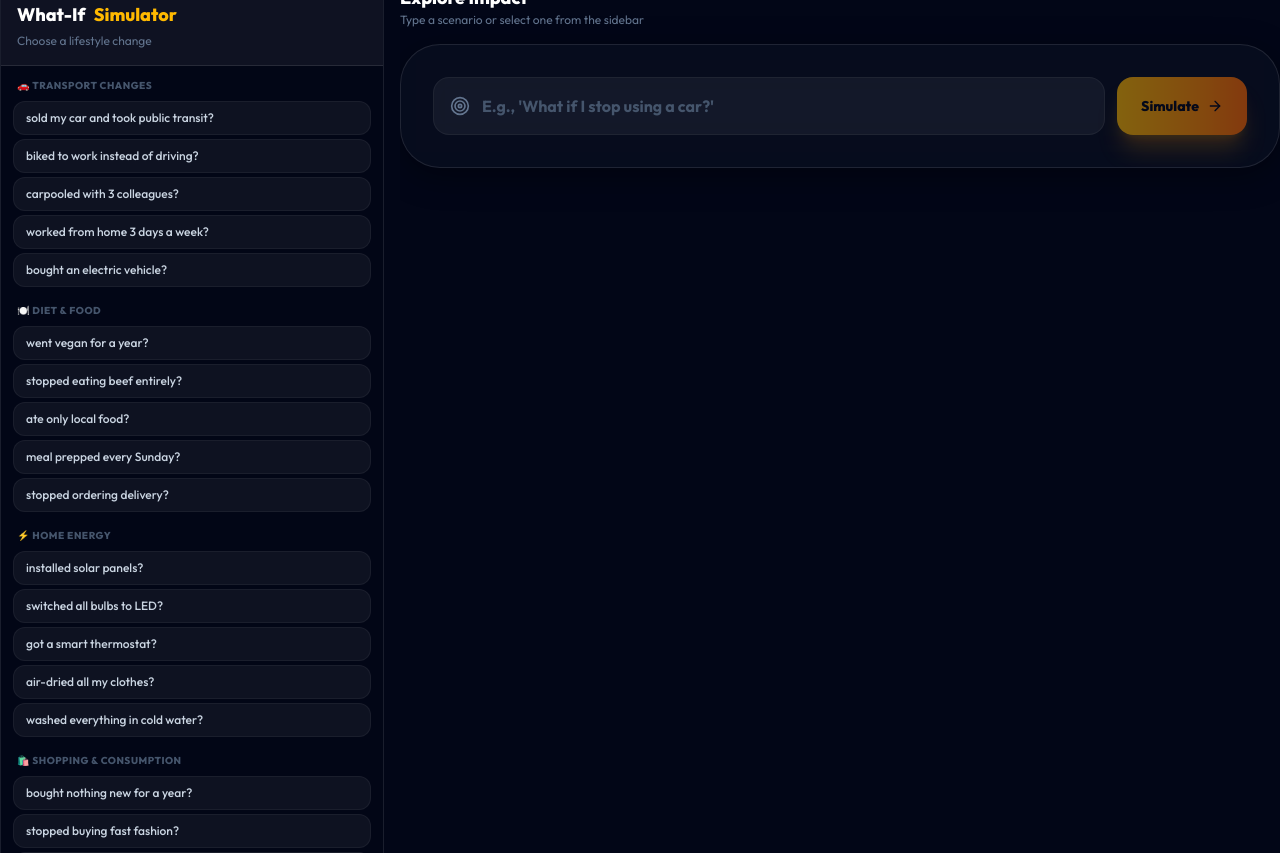
Test: WhatIfTab › handles form submission and displays simulated impact
Type "stop eating meat" into the field with placeholder "E.g., 'What if I stop using a car?'" at (779, 106), box [470,78,1088,134]
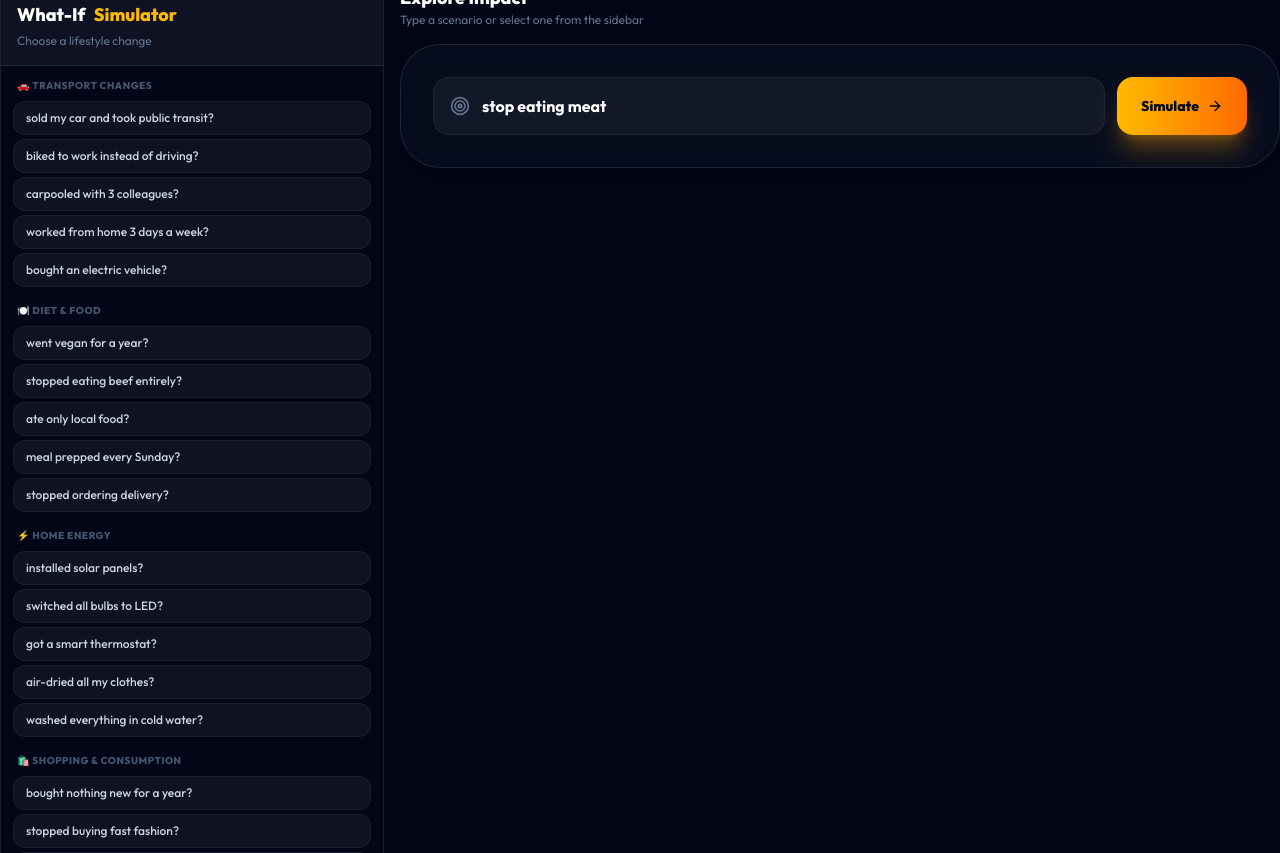
Click the button "Simulate" at (1182, 106), box [1117,77,1247,135]
(page scrolled)
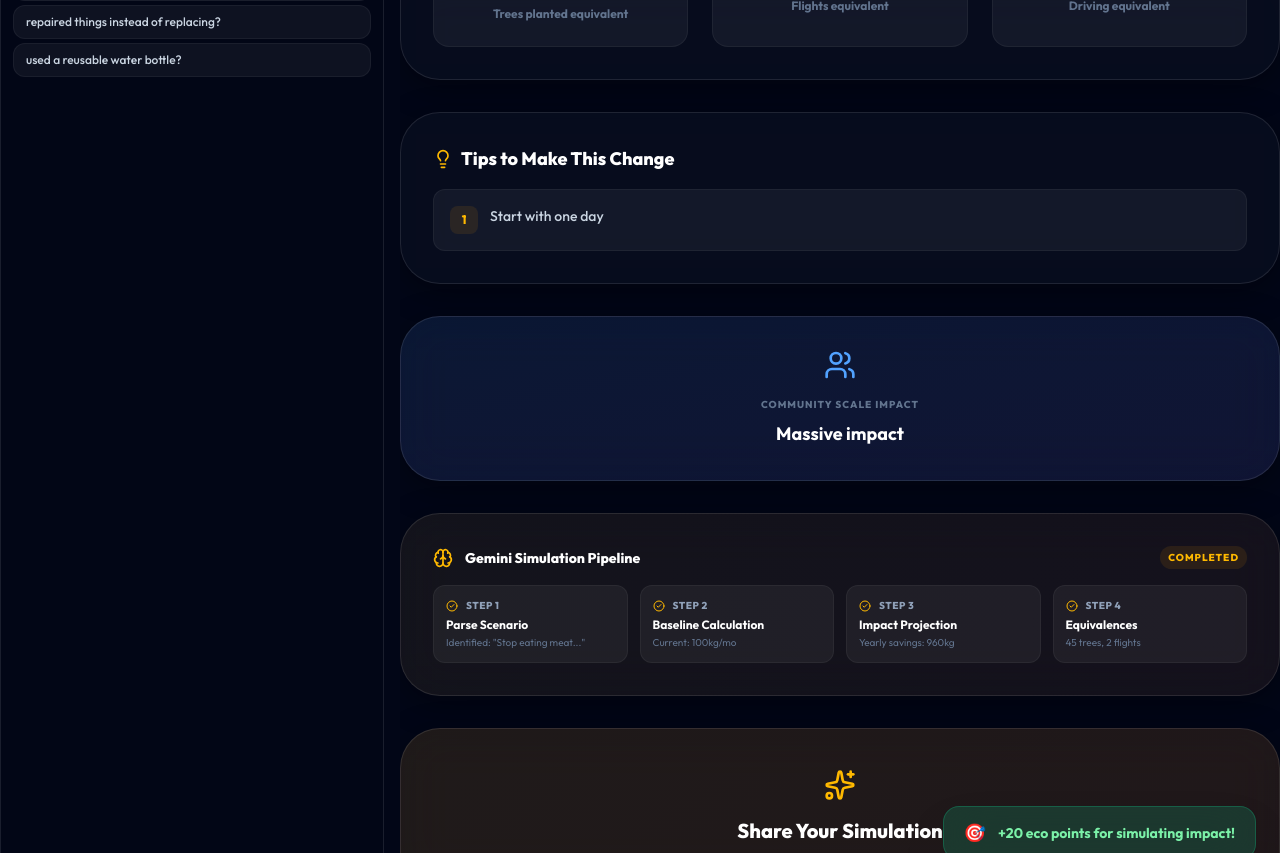
Check: the text "Trees planted equivalent" is shown, box [493,6,628,21]
Check: the text "Massive impact" is shown, box [776,422,904,445]
